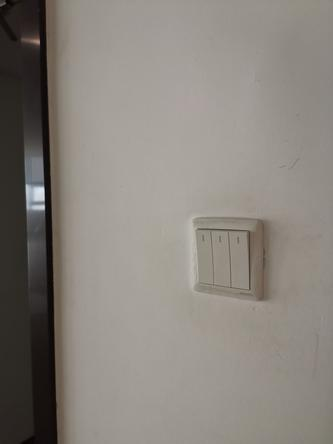switch: (206, 226, 234, 287), (227, 229, 253, 291), (193, 223, 215, 288)
